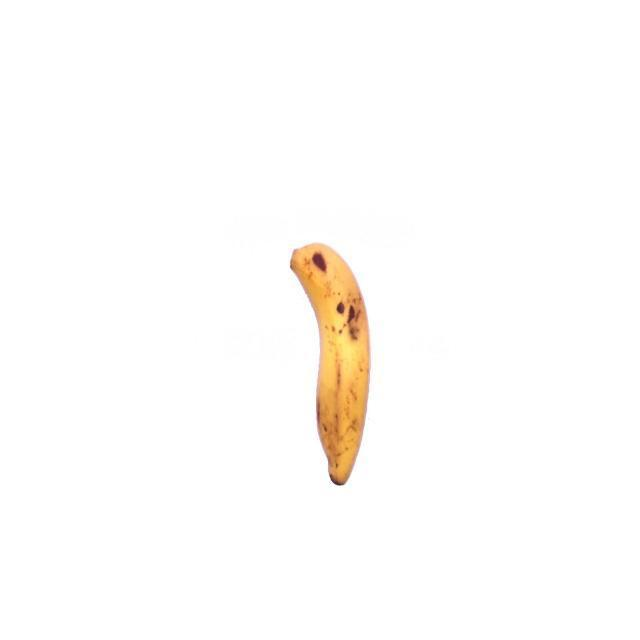Banana: (286, 240, 376, 490)
